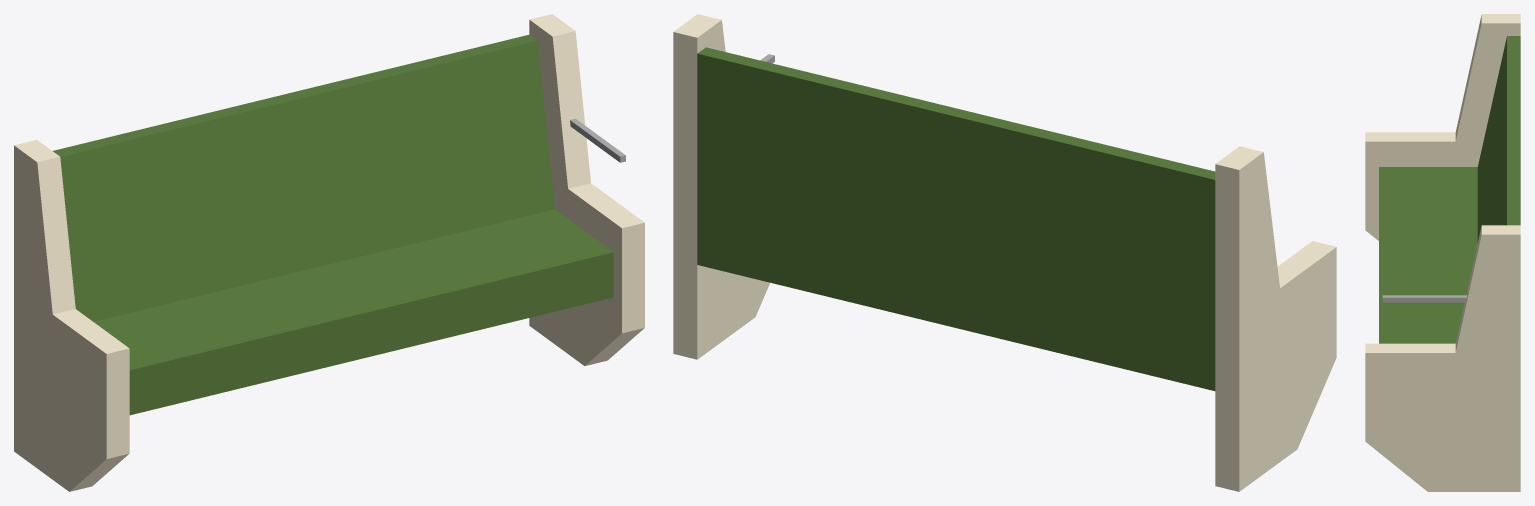
The model's file is S_SitRow_PH.fbx.
3 views of the same model, side by side, from view 1: azimuth 30°, elevation 25°; view 2: azimuth 150°, elevation 25°; view 3: azimuth 270°, elevation 25° (orthographic). The views are drawn at different scales.
Visible parts, largest first — view 1: オブジェクト_542; view 2: オブジェクト_542; view 3: オブジェクト_542.
Part boxes in pixels (x1,y1,x2,y2): オブジェクト_542: [14, 14, 644, 491]; オブジェクト_542: [673, 14, 1336, 491]; オブジェクト_542: [1365, 14, 1520, 491].
Size of the model in its own units: 187 by 102 by 55.87.
